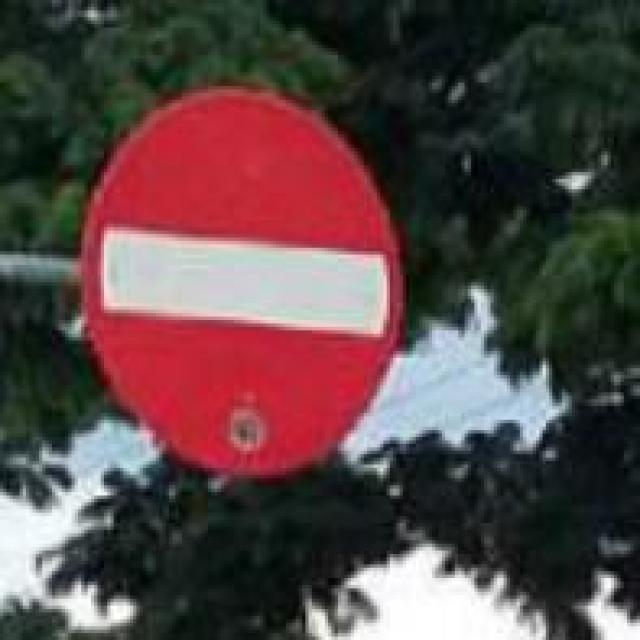traffic sign: (81, 90, 400, 479)
